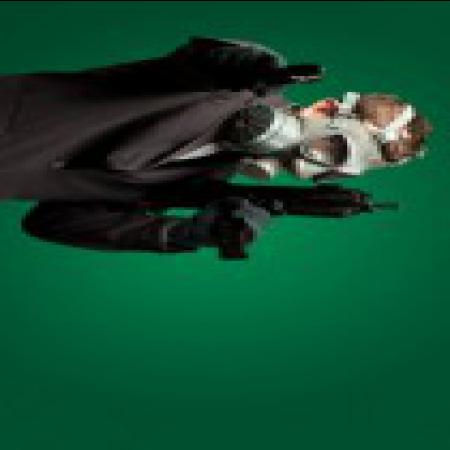Pistol: (218, 64, 342, 99)
